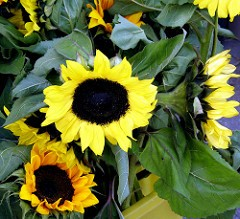flower: (38, 48, 162, 157), (12, 131, 100, 216)
